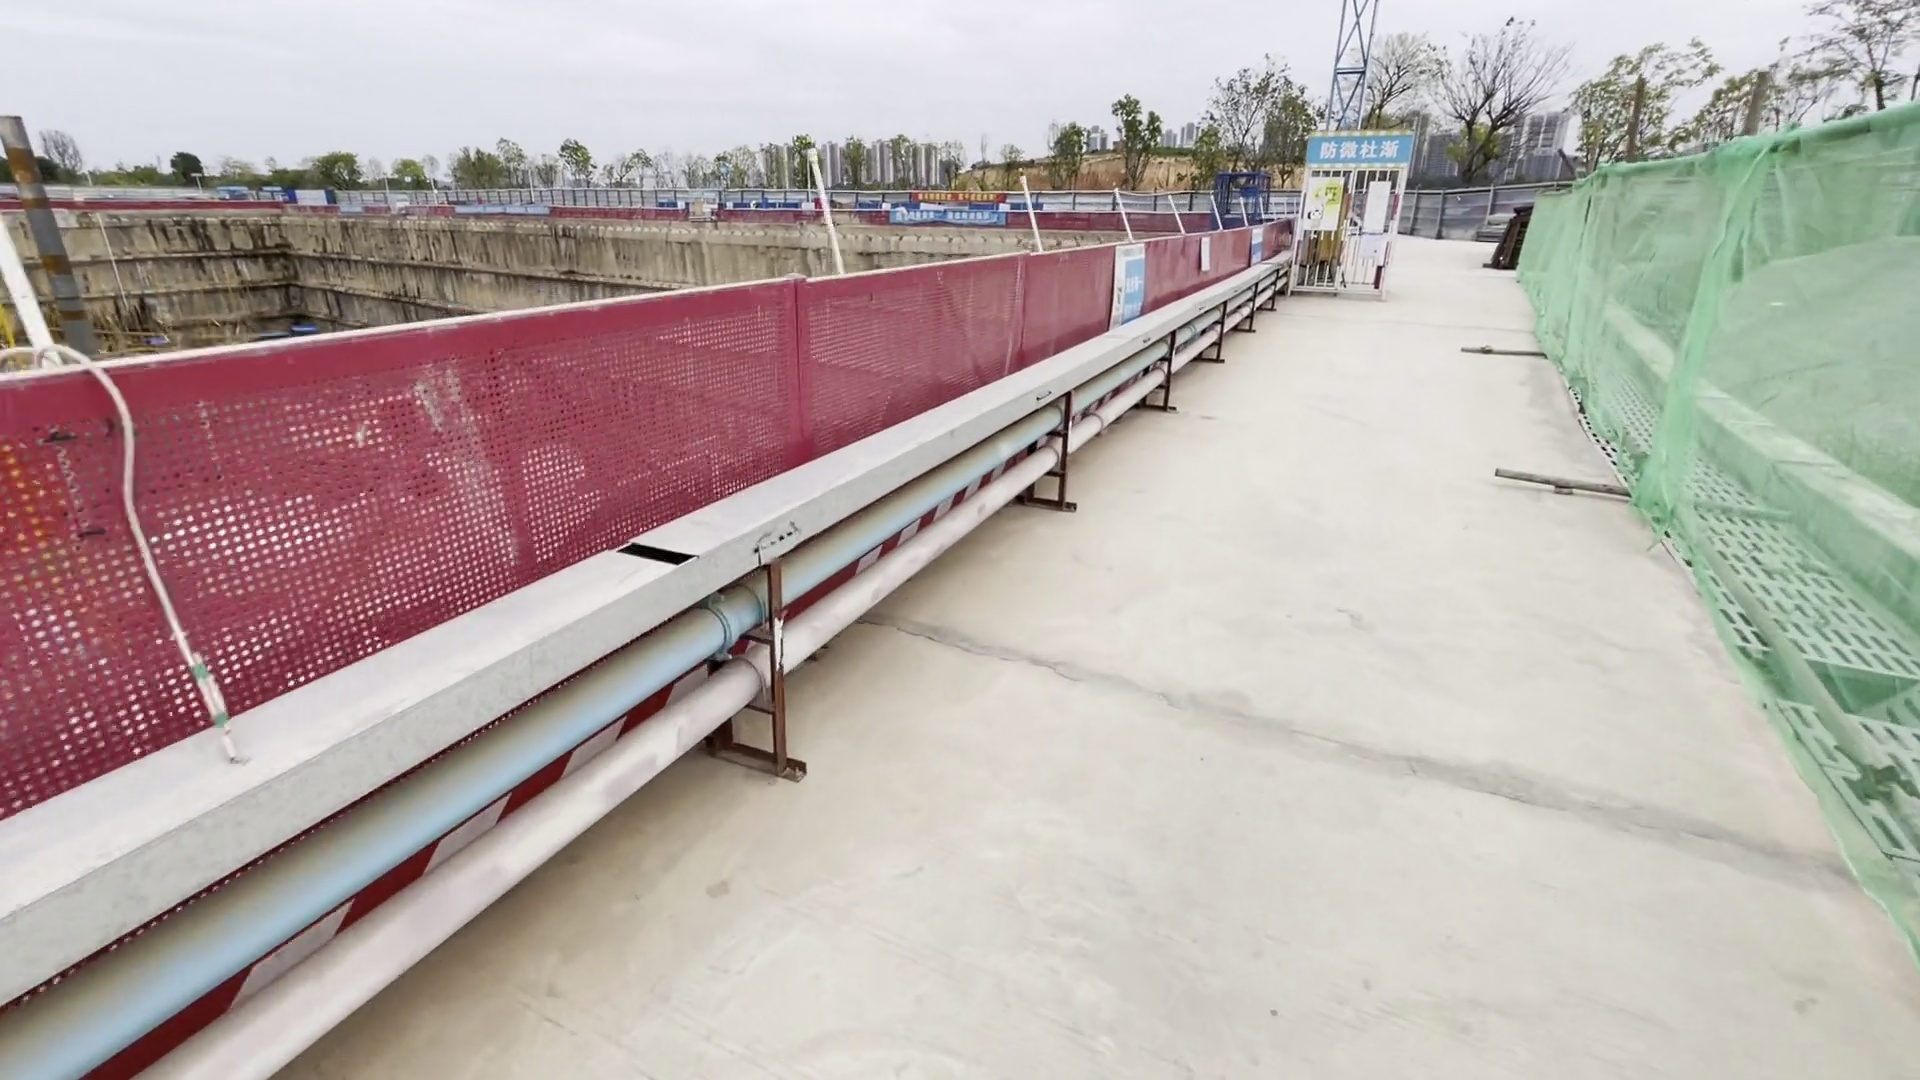fence: (1, 219, 1282, 819)
slogan: (910, 185, 1005, 222), (1315, 128, 1408, 164), (1117, 272, 1154, 309)
